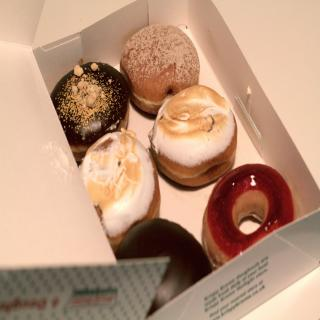Doughnut: (51, 23, 292, 314), (151, 83, 241, 190)
